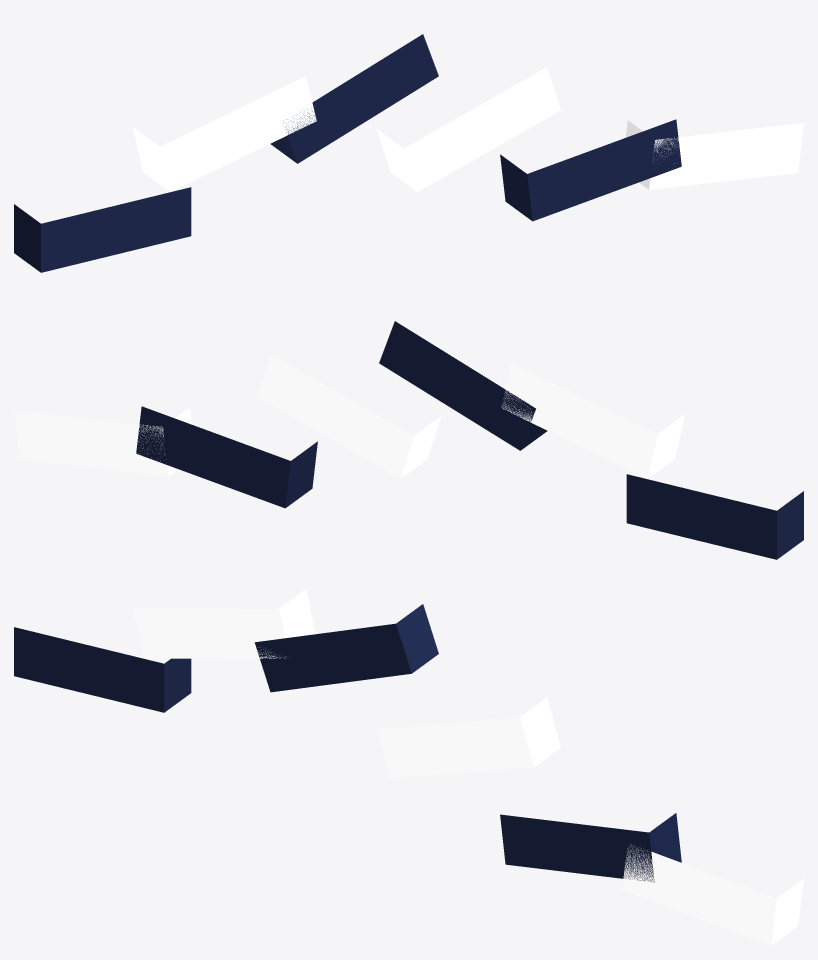
The model's file is razor.glb.
The picture shows the model from 3 angles, top to bottom: view 1: azimuth 30°, elevation 25°; view 2: azimuth 150°, elevation 25°; view 3: azimuth 330°, elevation 25°; orthographic projection.
Parts seen in each view (by area): view 1: razor-segment-0, razor-segment-4, razor-segment-1, razor-segment-3, razor-segment-2, razor-segment-5; view 2: razor-segment-0, razor-segment-4, razor-segment-3, razor-segment-1, razor-segment-2, razor-segment-5; view 3: razor-segment-2, razor-segment-3, razor-segment-0, razor-segment-5, razor-segment-4, razor-segment-1.
Part boxes in pixels (bbox=[...]): razor-segment-0: bbox=[14, 187, 191, 272]; razor-segment-4: bbox=[500, 119, 681, 221]; razor-segment-1: bbox=[133, 76, 316, 191]; razor-segment-3: bbox=[376, 67, 560, 191]; razor-segment-2: bbox=[270, 34, 438, 163]; razor-segment-5: bbox=[625, 120, 803, 189]; razor-segment-0: bbox=[626, 474, 803, 559]; razor-segment-4: bbox=[136, 406, 317, 508]; razor-segment-3: bbox=[257, 354, 441, 478]; razor-segment-1: bbox=[501, 363, 684, 478]; razor-segment-2: bbox=[379, 321, 547, 450]; razor-segment-5: bbox=[14, 407, 192, 476]; razor-segment-2: bbox=[254, 604, 438, 692]; razor-segment-3: bbox=[376, 697, 560, 779]; razor-segment-0: bbox=[14, 627, 191, 712]; razor-segment-5: bbox=[622, 844, 803, 945]; razor-segment-4: bbox=[500, 813, 681, 882]; razor-segment-1: bbox=[132, 589, 315, 658].
Bounding box in the file's own units: 0.8125 × 0.2346 × 0.05.
